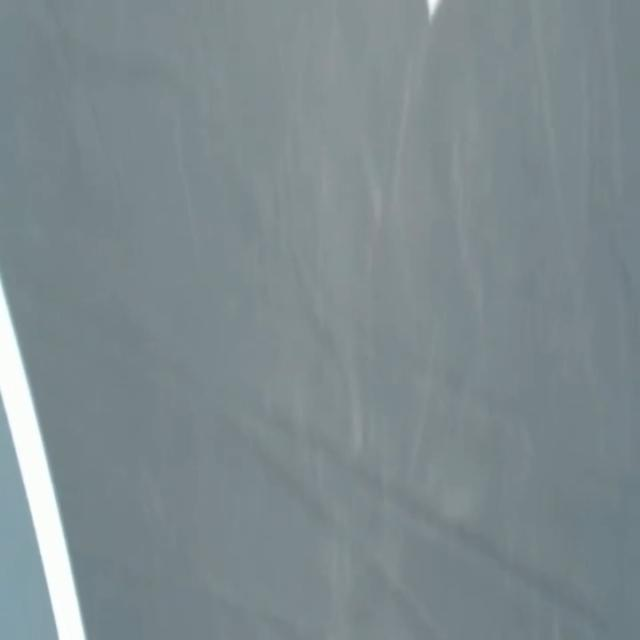left: (0, 276, 85, 639)
